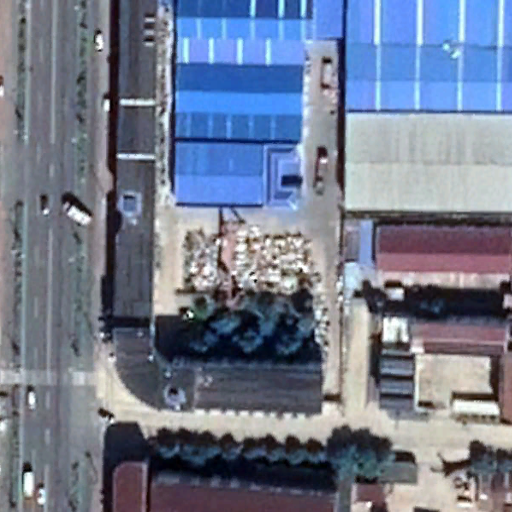msw: (184, 229, 314, 297)
